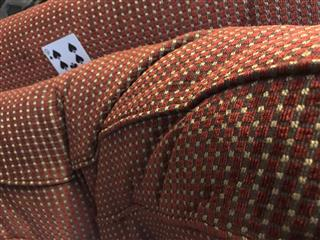NineOfSpades: (40, 32, 90, 73)
